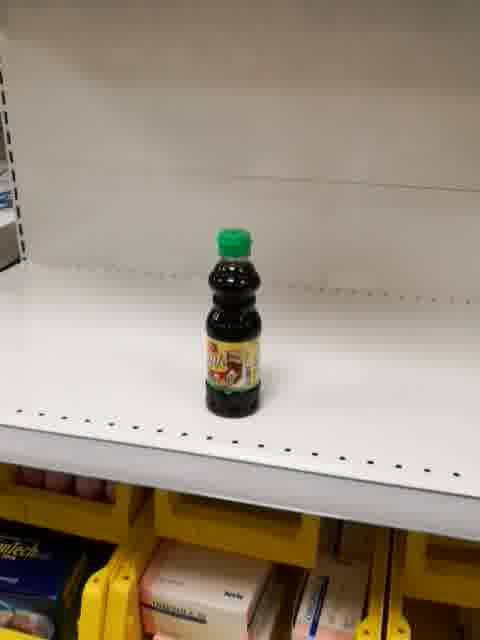cookingoil: (204, 227, 264, 420)
